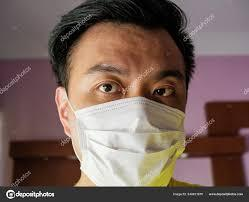mask: (66, 85, 192, 189)
